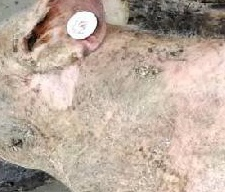text: (59, 3, 108, 45)
